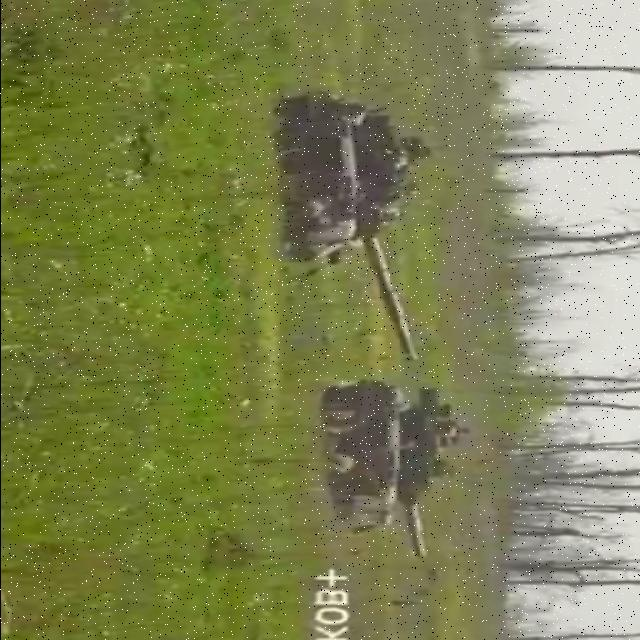TANK: (269, 91, 433, 362), (315, 376, 469, 566)
